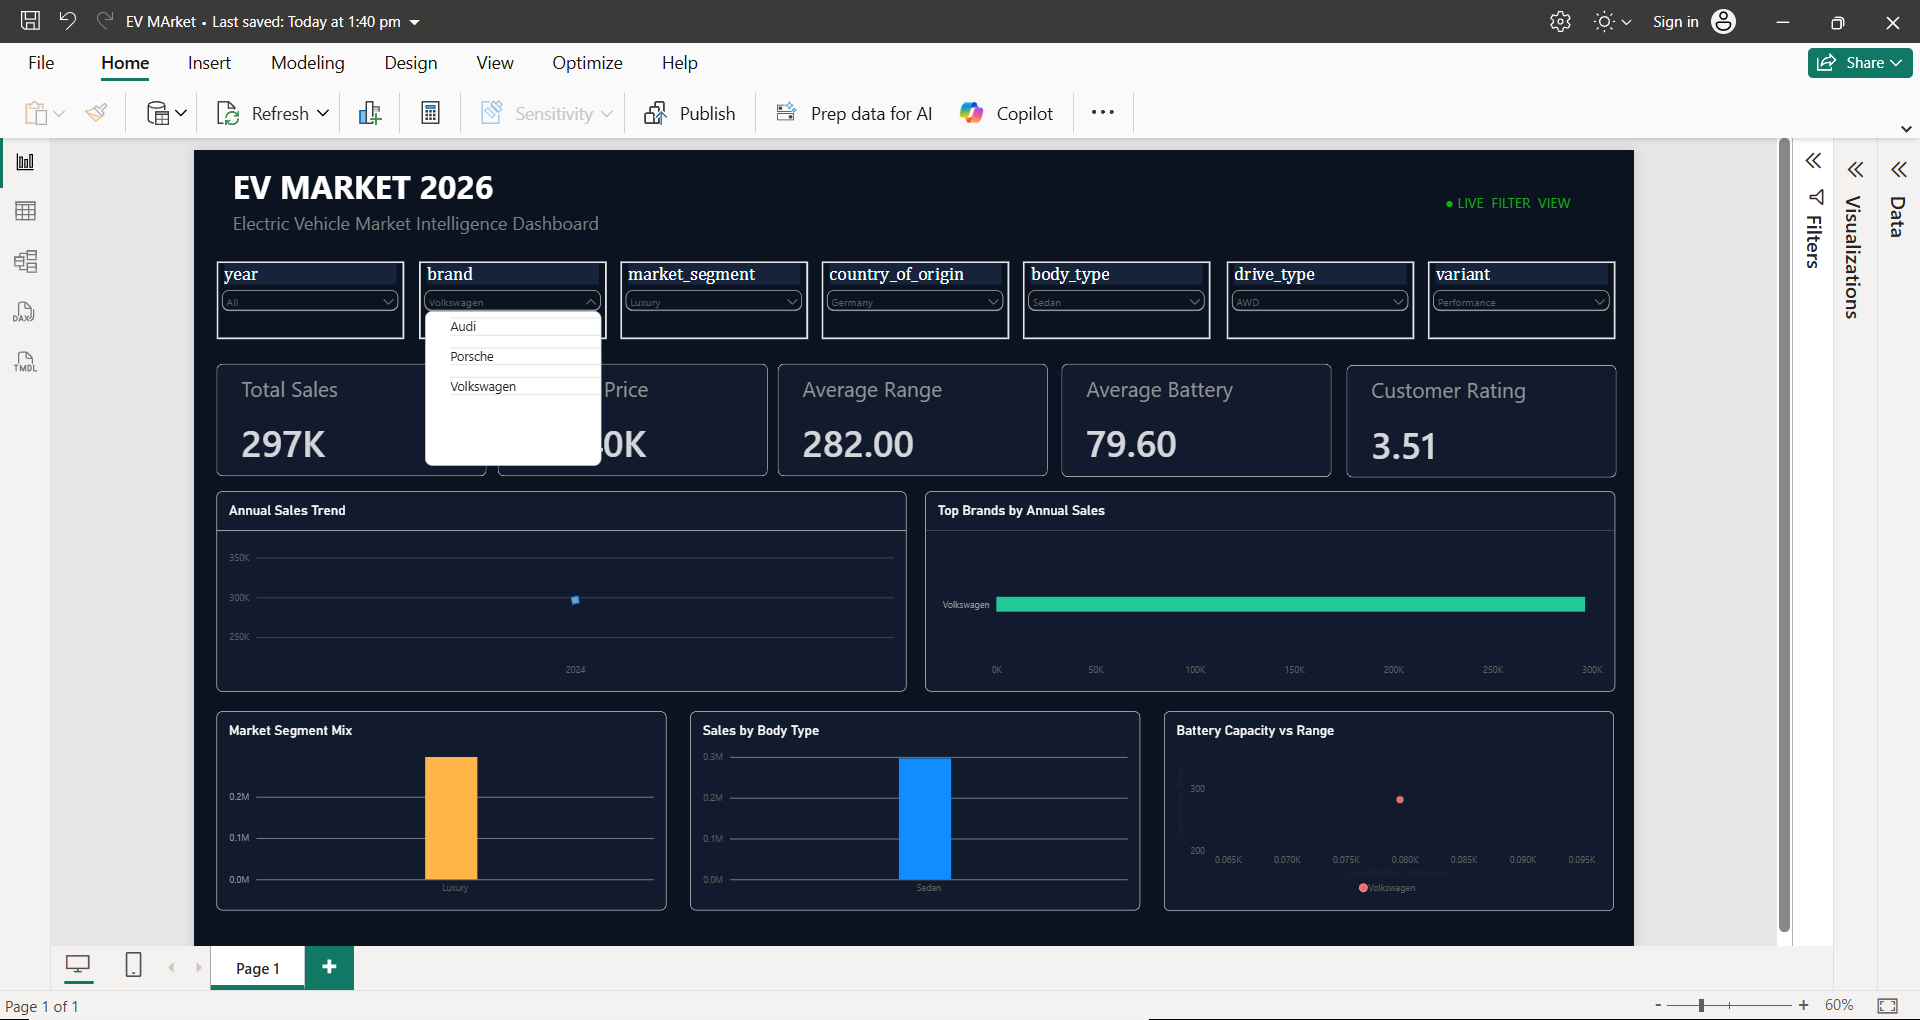

The page's visual inventory and layout, read from the dashboard file:
{"tool":"powerbi","page":{"name":"Page 1","canvas":[1920,1080],"ordinal":0},"visuals":[{"type":"textbox","box":[0,18.2,1920,121.8],"z":0},{"type":"textbox","box":[10.6,80.9,576.6,36.2],"z":1},{"type":"textbox","box":[1668.1,57.4,225.5,42.6],"z":2},{"type":"slicer","fields":{"Values":["EV_Market.year"]},"box":[29.8,148.9,250,103.6],"z":3},{"type":"slicer","fields":{"Values":["EV_Market.brand"]},"box":[300,148.9,250,103.6],"z":4},{"type":"slicer","fields":{"Values":["EV_Market.market_segment"]},"box":[568.1,148.9,250,103.6],"z":5},{"type":"slicer","fields":{"Values":["EV_Market.country_of_origin"]},"box":[836.2,148.9,250,103.6],"z":6},{"type":"slicer","fields":{"Values":["EV_Market.body_type"]},"box":[1104.3,148.9,250,103.6],"z":7},{"type":"slicer","fields":{"Values":["EV_Market.drive_type"]},"box":[1376.6,148.9,250,103.6],"z":8},{"type":"slicer","fields":{"Values":["EV_Market.variant"]},"box":[1644.7,148.9,250,103.6],"z":9},{"type":"cardVisual","fields":{"Data":["EV_Market.Total Sales"]},"box":[29.8,285.1,360,150],"z":10},{"type":"cardVisual","fields":{"Data":["EV_Market.Average Price"]},"box":[404.3,285.1,360,150],"z":11},{"type":"cardVisual","fields":{"Data":["EV_Market.Average Range"]},"box":[778.7,285.1,360,150],"z":12},{"type":"cardVisual","fields":{"Data":["EV_Market.Average Battery"]},"box":[1157.4,285.1,360,151.1],"z":13},{"type":"cardVisual","fields":{"Data":["EV_Market.Customer Rating"]},"box":[1536.2,287.2,360,150],"z":14},{"type":"lineChart","title":"Annual Sales Trend","fields":{"Category":["EV_Market.year"],"Y":["EV_Market.Total Sales"]},"box":[29.8,455.3,920,267.5],"z":15},{"type":"clusteredBarChart","title":"Top Brands by Annual Sales","fields":{"Category":["EV_Market.brand"],"Y":["EV_Market.Total Sales"]},"box":[974.5,455.3,920,267.5],"z":16},{"type":"clusteredColumnChart","title":"Market Segment Mix","fields":{"Category":["EV_Market.market_segment"],"Y":["EV_Market.Total Sales"]},"box":[29.8,748.9,600,266],"z":17},{"type":"clusteredColumnChart","title":"Sales by Body Type","fields":{"Category":["EV_Market.body_type"],"Y":["EV_Market.Total Sales"]},"box":[661.7,748.9,600,266],"z":18},{"type":"scatterChart","title":"Battery Capacity vs Range","fields":{"Category":["EV_Market.model"],"Series":["EV_Market.brand"],"X":["Sum(EV_Market.battery_capacity_kwh)"],"Y":["Sum(EV_Market.range_miles)"]},"box":[1293.6,748.9,600,266],"z":19}]}

Visuals, with their boxes on the page's 1920x1080 design canvas (x1, y1, x2, y2). These are canvas units, not pixel positions in the 1920x1020 screenshot, which may show the page scaled, cropped or inside an application window:
textbox: BBox(0, 18, 1920, 140)
textbox: BBox(11, 81, 587, 117)
textbox: BBox(1668, 57, 1894, 100)
slicer - EV_Market.year: BBox(30, 149, 280, 252)
slicer - EV_Market.brand: BBox(300, 149, 550, 252)
slicer - EV_Market.market_segment: BBox(568, 149, 818, 252)
slicer - EV_Market.country_of_origin: BBox(836, 149, 1086, 252)
slicer - EV_Market.body_type: BBox(1104, 149, 1354, 252)
slicer - EV_Market.drive_type: BBox(1377, 149, 1627, 252)
slicer - EV_Market.variant: BBox(1645, 149, 1895, 252)
cardVisual - EV_Market.Total Sales: BBox(30, 285, 390, 435)
cardVisual - EV_Market.Average Price: BBox(404, 285, 764, 435)
cardVisual - EV_Market.Average Range: BBox(779, 285, 1139, 435)
cardVisual - EV_Market.Average Battery: BBox(1157, 285, 1517, 436)
cardVisual - EV_Market.Customer Rating: BBox(1536, 287, 1896, 437)
"Annual Sales Trend" lineChart: BBox(30, 455, 950, 723)
"Top Brands by Annual Sales" clusteredBarChart: BBox(974, 455, 1894, 723)
"Market Segment Mix" clusteredColumnChart: BBox(30, 749, 630, 1015)
"Sales by Body Type" clusteredColumnChart: BBox(662, 749, 1262, 1015)
"Battery Capacity vs Range" scatterChart: BBox(1294, 749, 1894, 1015)
